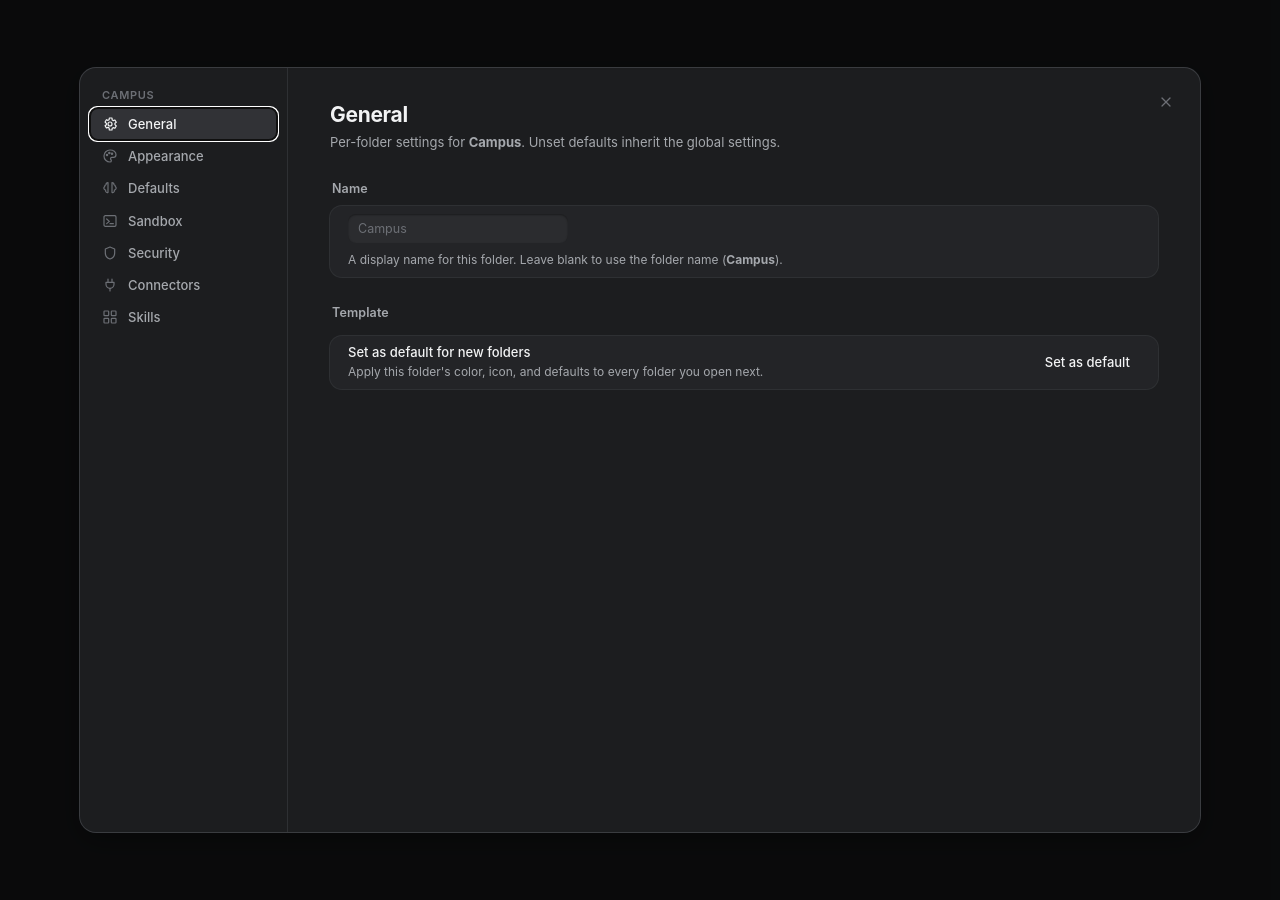
Test: ProjectSettingsModal — Connectors/Skills tabs › Skills tab renders real content, not the placeholder
Step 1. Click the button "Skills" → (184,317), box [90,301,277,333]
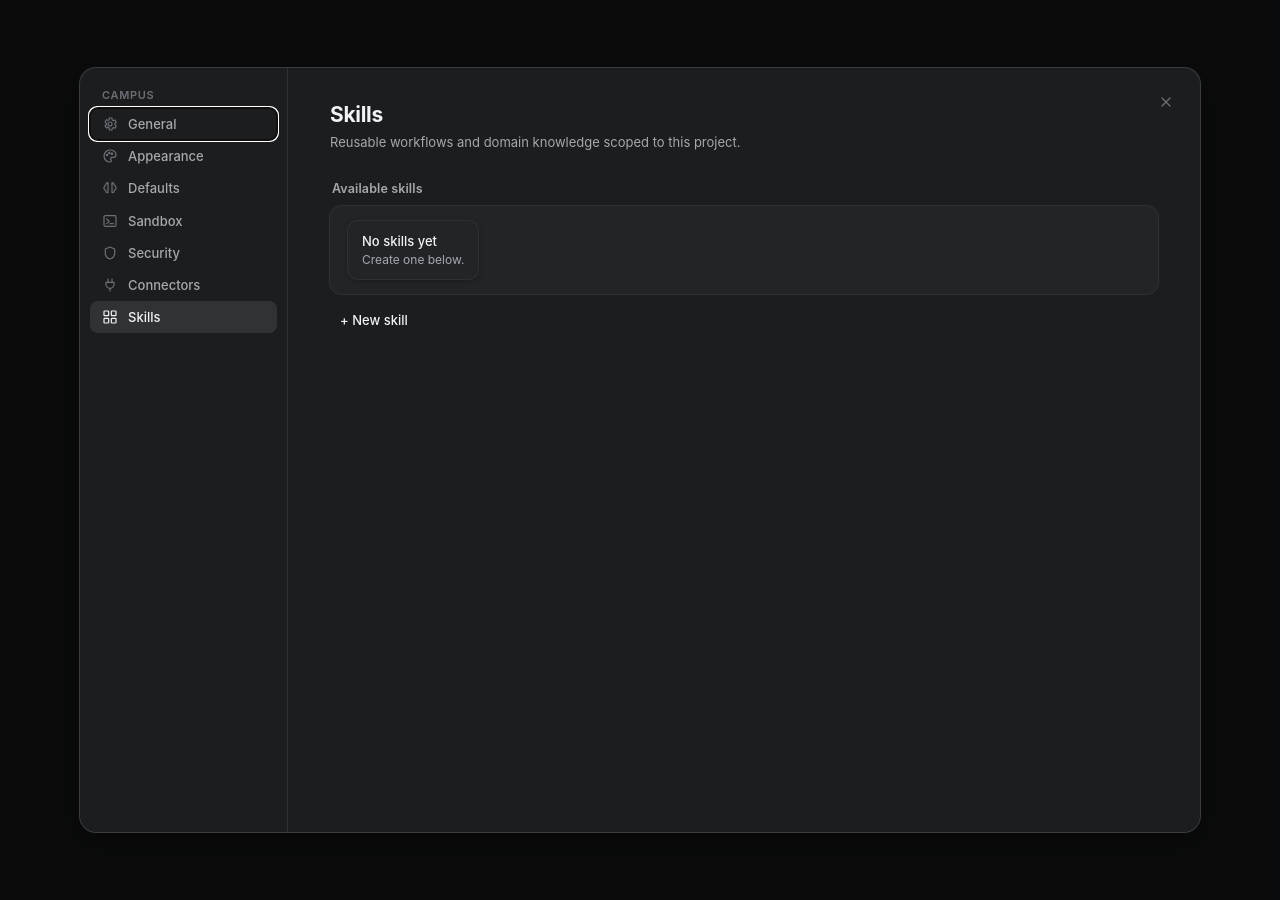
Expected: the button "+ New skill" is shown, [330,306,418,334]
